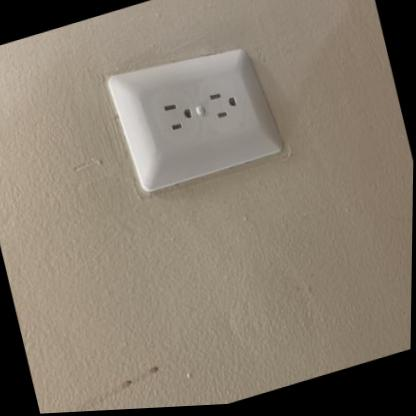OUTLET: (102, 28, 291, 207)
